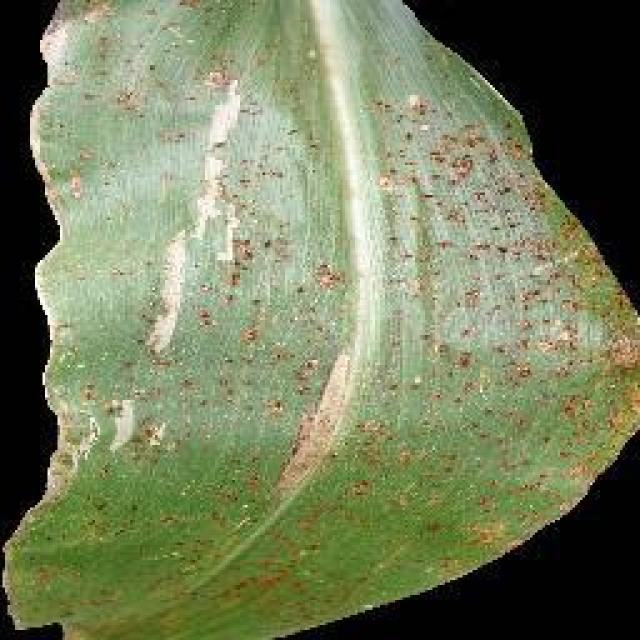Corn Common Rust: (252, 248, 563, 564)
